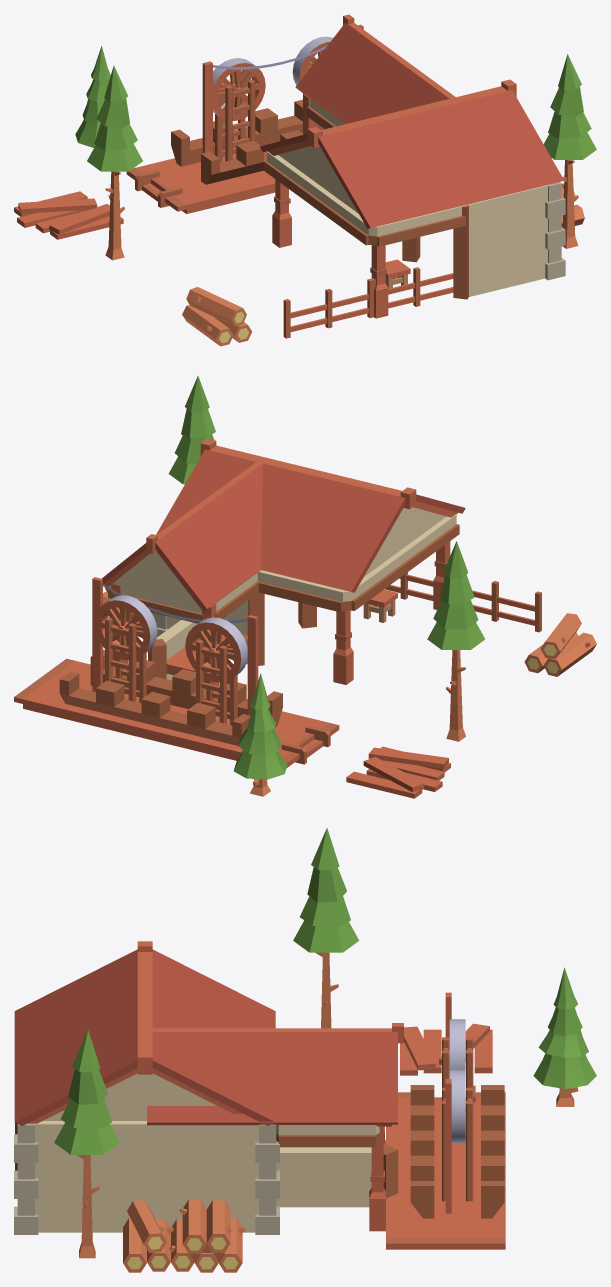
File: scierie.glb
The picture shows the model from 3 angles, top to bottom: view 1: azimuth 30°, elevation 25°; view 2: azimuth 150°, elevation 25°; view 3: azimuth 270°, elevation 25°; orthographic projection. The views are drawn at different scales.
Visible parts, largest first — view 1: mergedBlocks(Clone); view 2: mergedBlocks(Clone); view 3: mergedBlocks(Clone).
Part boxes in pixels (x1,y1,x2,y2): mergedBlocks(Clone): [14, 14, 596, 346]; mergedBlocks(Clone): [14, 375, 596, 798]; mergedBlocks(Clone): [14, 828, 596, 1272].
Bounding box in the file's own units: 4.79 × 2.18 × 4.88.
Materials: 1 (1 with a texture image).
